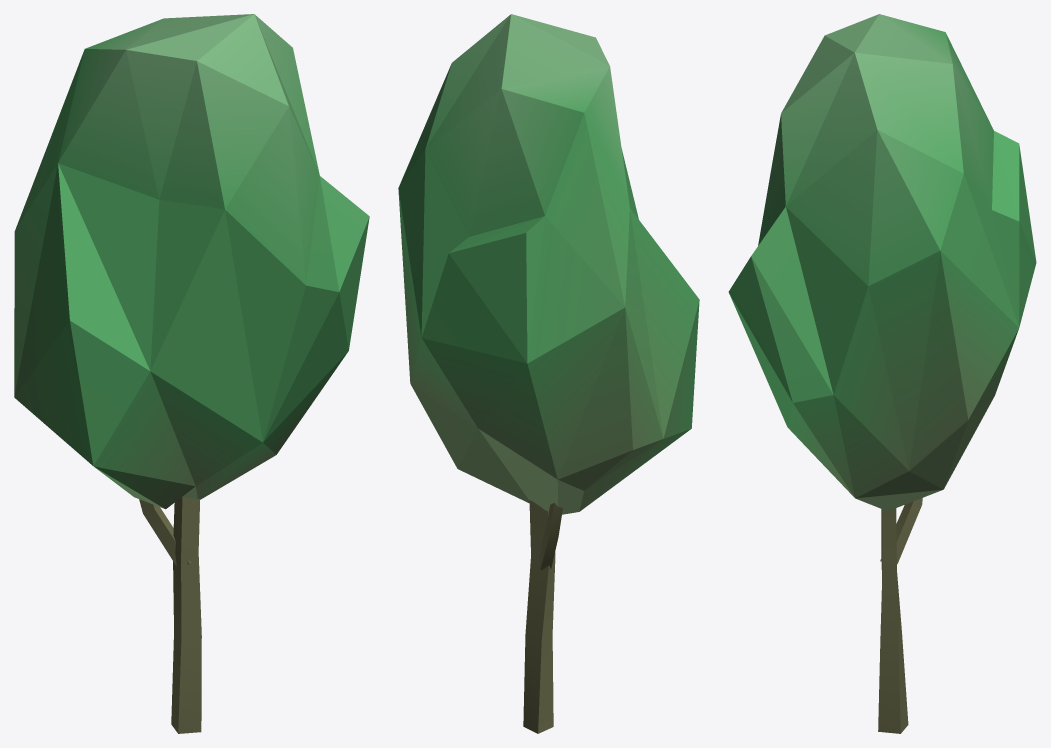
The model's file is tree_oval.glb.
3 renders of one model, left to right at view 1: azimuth 30°, elevation 25°; view 2: azimuth 150°, elevation 25°; view 3: azimuth 270°, elevation 25°, orthographic. The views are drawn at different scales.
Visible parts, largest first — view 1: tree_oval_02; view 2: tree_oval_02; view 3: tree_oval_02.
Part boxes in pixels (x1,y1,x2,y2): tree_oval_02: [14, 14, 369, 733]; tree_oval_02: [398, 14, 699, 733]; tree_oval_02: [728, 14, 1036, 733].
Size of the model in its own units: 0.3793 by 0.9513 by 0.3801.
